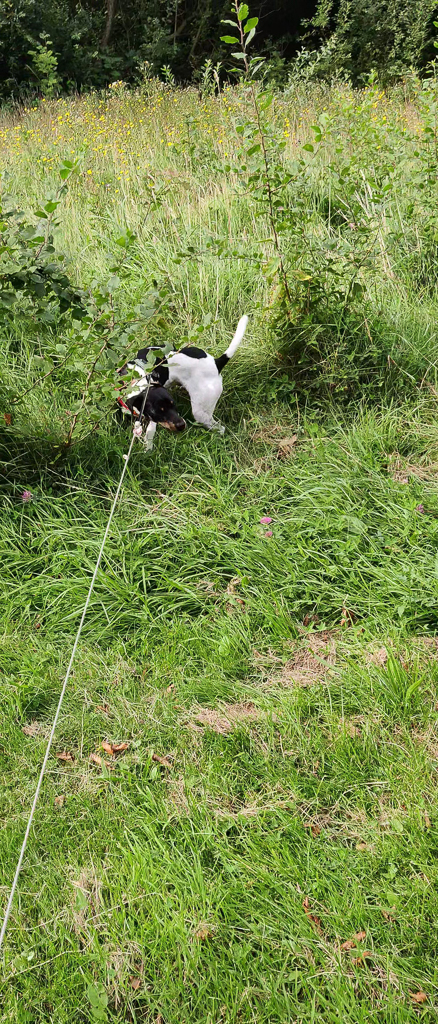Dog: (99, 302, 260, 461)
